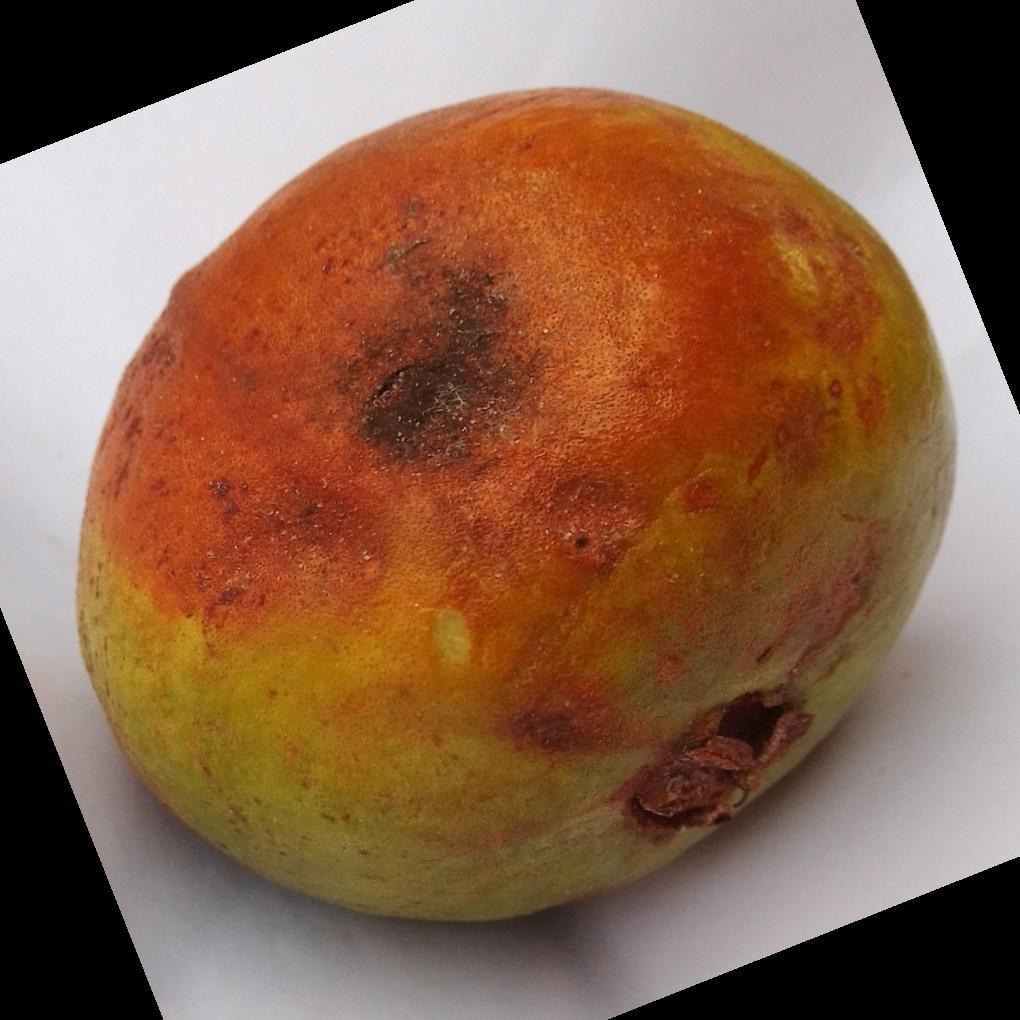FreshOrange: (74, 87, 960, 929)
